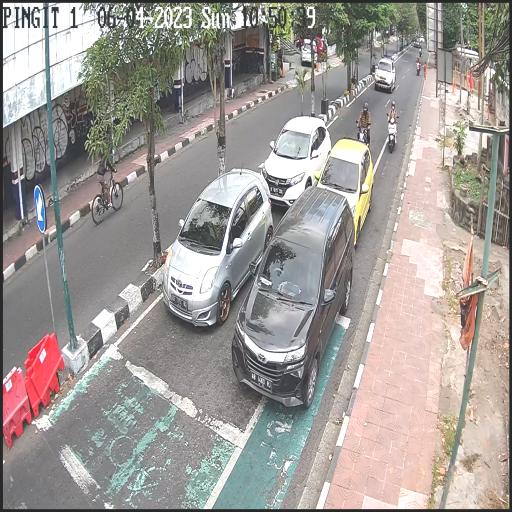mobil: (232, 189, 354, 419), (162, 167, 274, 333), (259, 113, 331, 207), (322, 134, 375, 244), (374, 54, 396, 94)
motor: (386, 113, 400, 156), (356, 121, 374, 145)
